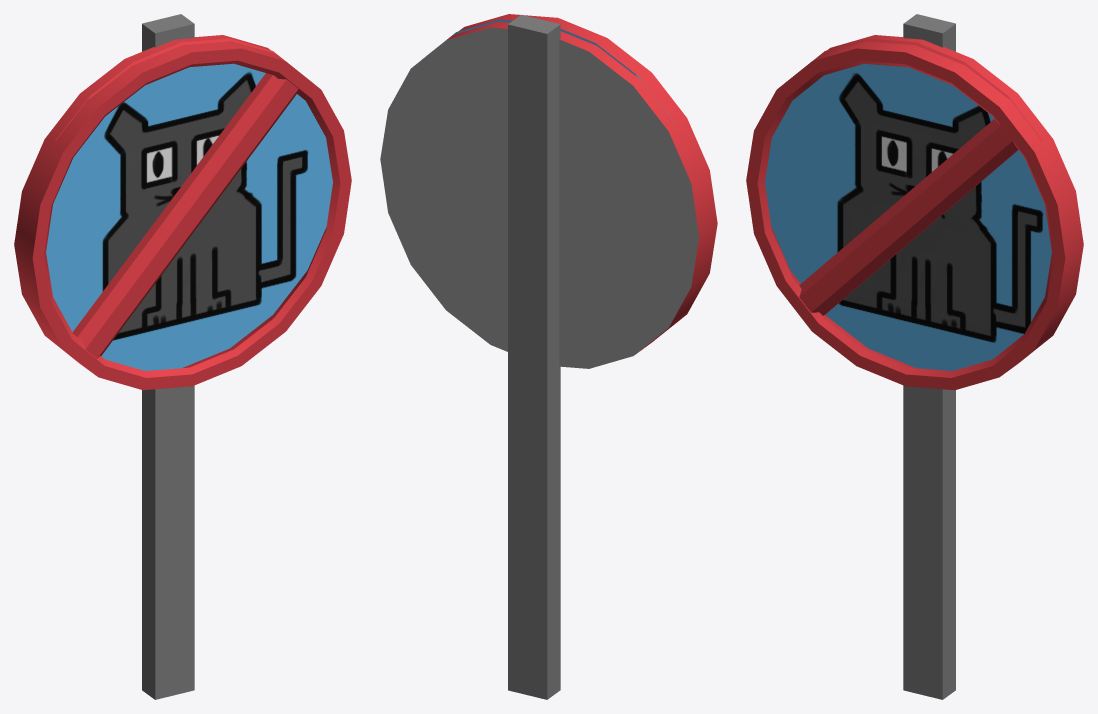
File: cat_sign.fbx
3 renders of one model, left to right at view 1: azimuth 30°, elevation 25°; view 2: azimuth 150°, elevation 25°; view 3: azimuth 330°, elevation 25°, orthographic.
Parts seen in each view (by area): view 1: pCube4; view 2: pCube4; view 3: pCube4.
Boxes of the visible parts, x1,y1,x2,y2 form: pCube4: (14, 14, 351, 699); pCube4: (380, 14, 717, 699); pCube4: (746, 14, 1083, 699).
Bounding box in the file's own units: 8.1 × 16.16 × 1.35.
4 materials, 1 textured.
